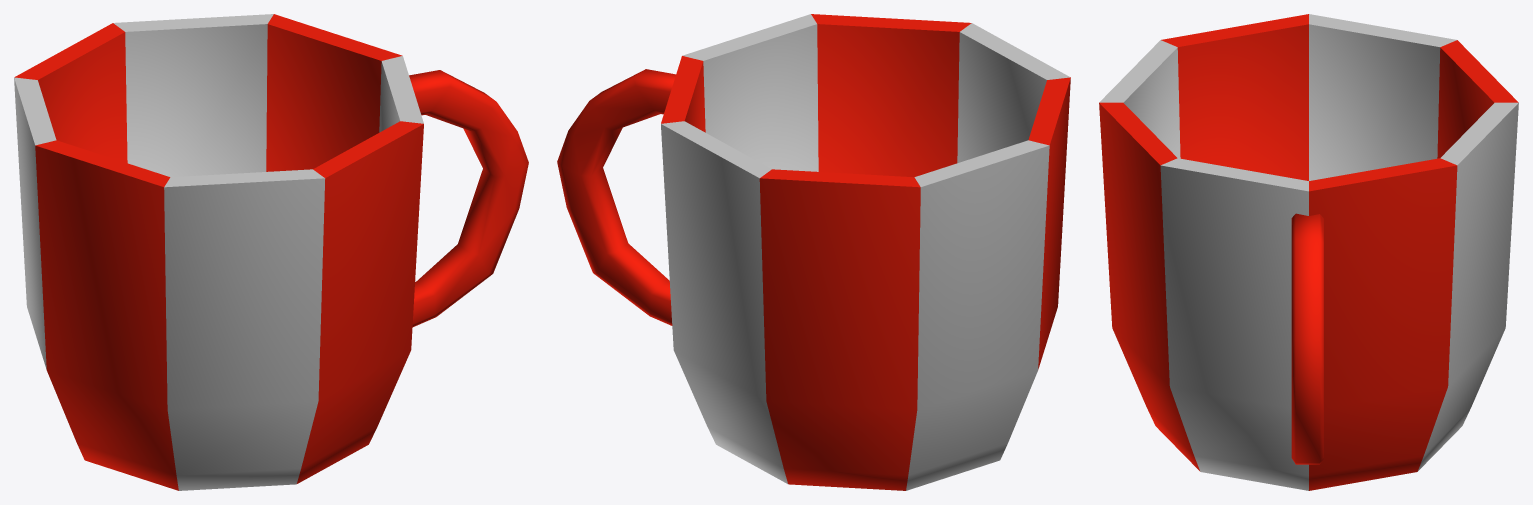
File: Coffee_Cup_05.FBX
The picture shows the model from 3 angles, left to right: view 1: azimuth 30°, elevation 25°; view 2: azimuth 150°, elevation 25°; view 3: azimuth 270°, elevation 25°; orthographic projection.
Parts seen in each view (by area): view 1: Coffee Cup; view 2: Coffee Cup; view 3: Coffee Cup.
Part boxes in pixels (<box>): Coffee Cup: <box>14,14,528,490</box>; Coffee Cup: <box>557,14,1070,490</box>; Coffee Cup: <box>1099,14,1518,490</box>.
Bounding box in the file's own units: 44.01 × 28.24 × 33.22.
